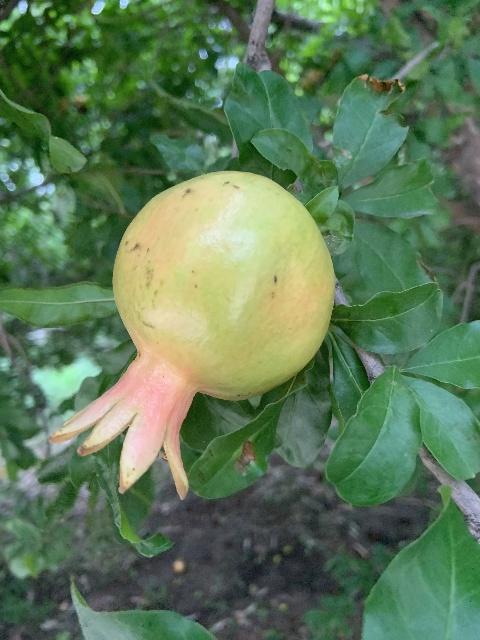mid-growth: (46, 170, 333, 504)
